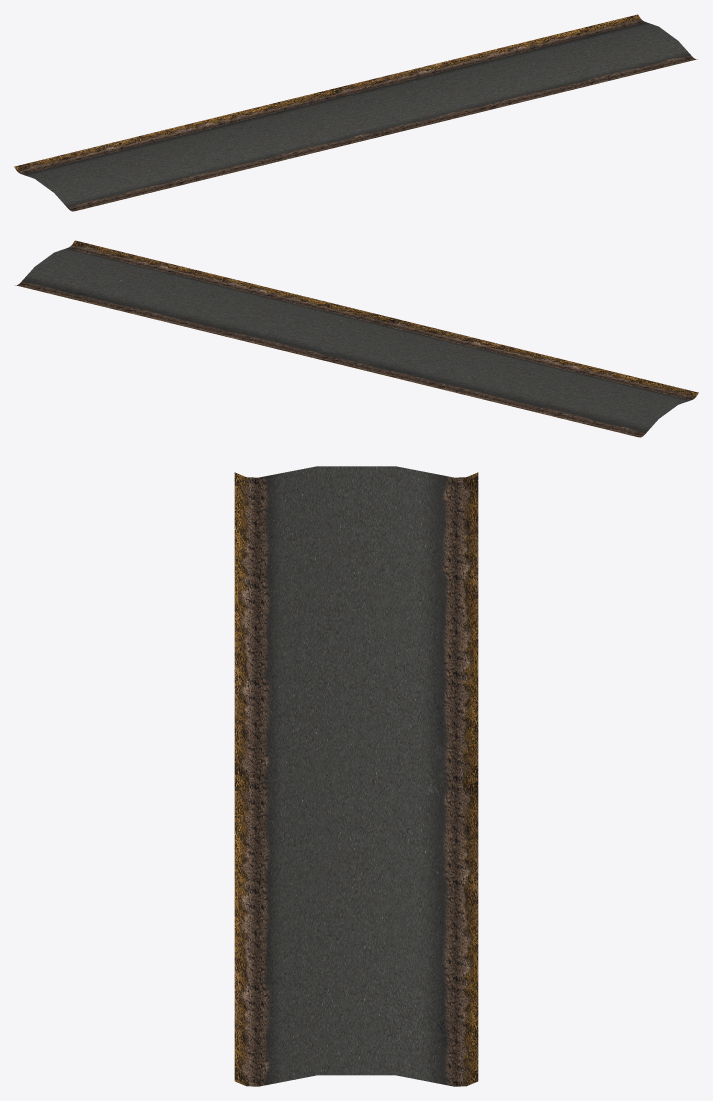
Rendered from Road.fbx.
The picture shows the model from 3 angles, top to bottom: view 1: azimuth 30°, elevation 25°; view 2: azimuth 150°, elevation 25°; view 3: azimuth 270°, elevation 25°; orthographic projection. The views are drawn at different scales.
Parts seen in each view (by area): view 1: polySurface391; view 2: polySurface391; view 3: polySurface391.
Boxes of the visible parts, <box> form: polySurface391: <box>14,14,697,211</box>; polySurface391: <box>15,240,698,437</box>; polySurface391: <box>234,466,478,1086</box>.
Bounding box in the file's own units: 68.12 × 0.5992 × 11.51.
